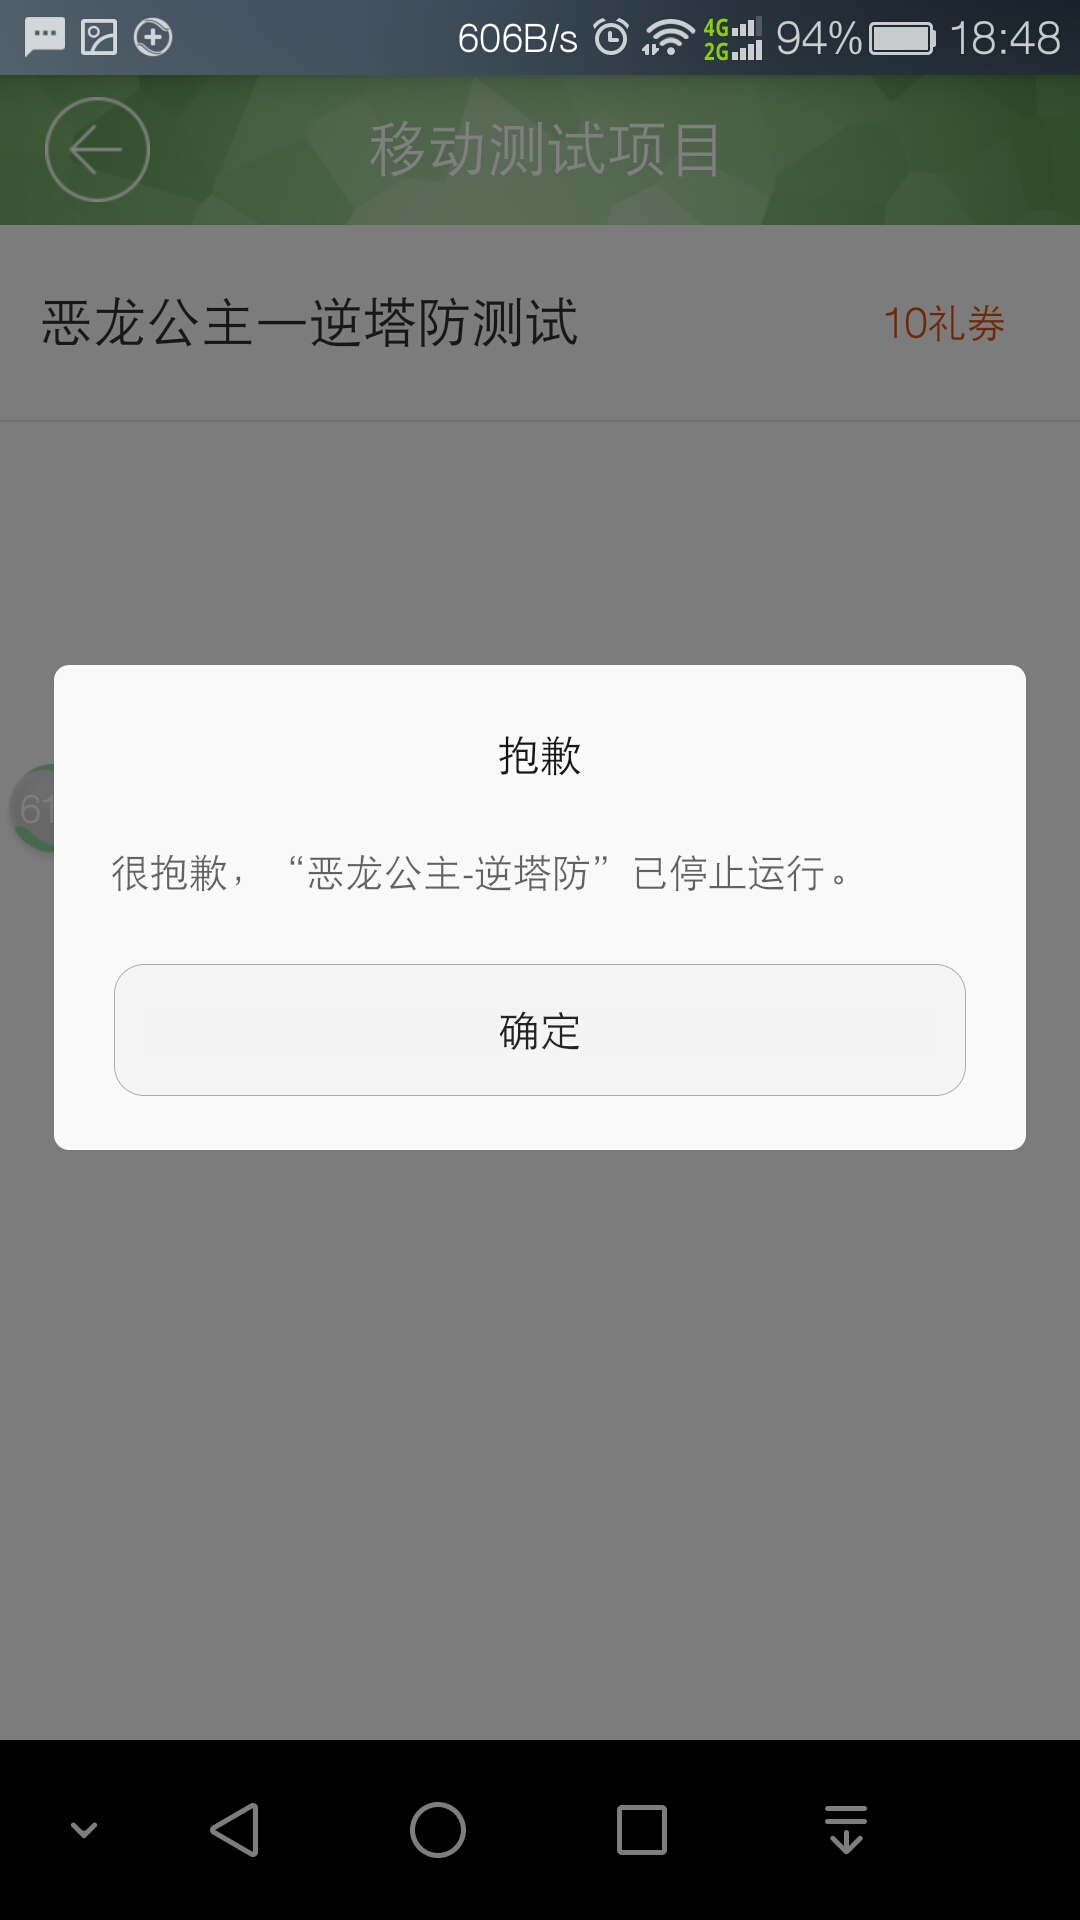alert: (40, 657, 1044, 1168)
button: (98, 953, 982, 1104)
